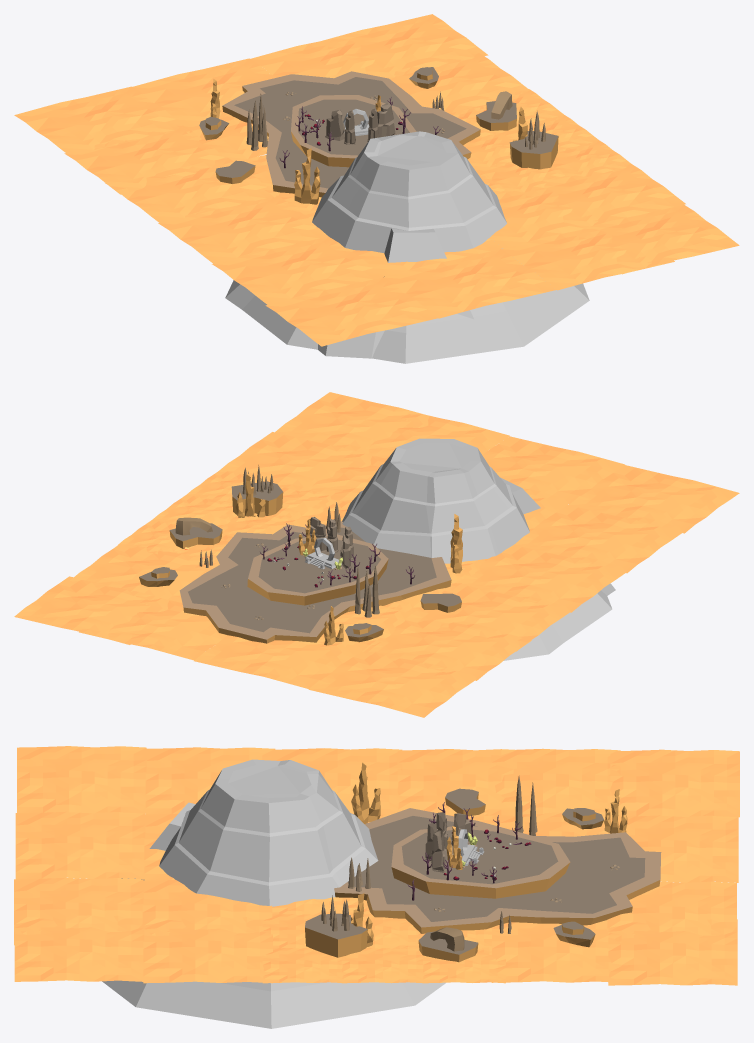
Rendered from Battle_Volcano_03_Hero.fbx.
3 views of the same model, one above another, from view 1: azimuth 30°, elevation 25°; view 2: azimuth 150°, elevation 25°; view 3: azimuth 270°, elevation 25° (orthographic). The views are drawn at different scales.
Parts seen in each view (by area): view 1: vulcano, polySurface2, terrain_plane_water__29_, terrain_plane_water__32_, terrain_plane_water__21_, terrain_plane_water__28_, terrain_plane_water__22_, terrain_plane_water__24_, terrain_plane_water__31_, terrain_plane_water__27_, terrain_plane_water__20_, terrain_plane_water__30_ (+18 smaller); view 2: vulcano, polySurface2, terrain_plane_water__32_, terrain_plane_water__21_, terrain_plane_water__28_, terrain_plane_water__22_, polySurface1, terrain_plane_water__29_, terrain_plane_water__24_, terrain_plane_water__31_, terrain_plane_water__25_, terrain_plane_water__27_ (+23 smaller); view 3: vulcano, polySurface2, terrain_plane_water__29_, terrain_plane_water__32_, polySurface1, terrain_plane_water__28_, terrain_plane_water__31_, terrain_plane_water__27_, terrain_plane_water__20_, terrain_plane_water__24_, terrain_plane_water__25_, terrain_plane_water__30_ (+26 smaller).
Boxes of the visible parts, x1,y1,x2,y2 form: vulcano: [225, 131, 589, 363]; polySurface2: [222, 71, 480, 197]; terrain_plane_water__29_: [384, 249, 556, 318]; terrain_plane_water__32_: [265, 277, 437, 346]; terrain_plane_water__21_: [212, 236, 384, 304]; terrain_plane_water__28_: [14, 86, 184, 154]; terrain_plane_water__22_: [158, 195, 327, 264]; terrain_plane_water__24_: [64, 125, 224, 194]; terrain_plane_water__31_: [579, 204, 739, 274]; terrain_plane_water__27_: [323, 14, 488, 78]; terrain_plane_water__20_: [525, 163, 685, 227]; terrain_plane_water__30_: [501, 228, 674, 290]; vulcano: [342, 438, 615, 660]; polySurface2: [179, 521, 451, 643]; terrain_plane_water__32_: [569, 465, 739, 533]; terrain_plane_water__21_: [514, 504, 681, 573]; terrain_plane_water__28_: [308, 651, 476, 717]; terrain_plane_water__22_: [457, 545, 626, 612]; polySurface1: [247, 534, 388, 605]; terrain_plane_water__29_: [482, 436, 624, 504]; terrain_plane_water__24_: [362, 619, 531, 680]; terrain_plane_water__31_: [275, 392, 430, 456]; terrain_plane_water__25_: [194, 635, 362, 688]; terrain_plane_water__27_: [14, 576, 169, 644]; vulcano: [102, 759, 445, 1028]; polySurface2: [334, 808, 661, 933]; terrain_plane_water__29_: [15, 811, 145, 879]; terrain_plane_water__32_: [17, 746, 146, 813]; polySurface1: [391, 826, 570, 898]; terrain_plane_water__28_: [610, 749, 739, 817]; terrain_plane_water__31_: [14, 915, 144, 981]; terrain_plane_water__27_: [608, 919, 737, 985]; terrain_plane_water__20_: [143, 917, 272, 983]; terrain_plane_water__24_: [491, 748, 620, 816]; terrain_plane_water__25_: [609, 815, 738, 882]; terrain_plane_water__30_: [14, 877, 143, 945].
Bounding box in the file's own units: 9225 × 3056 × 11888.
